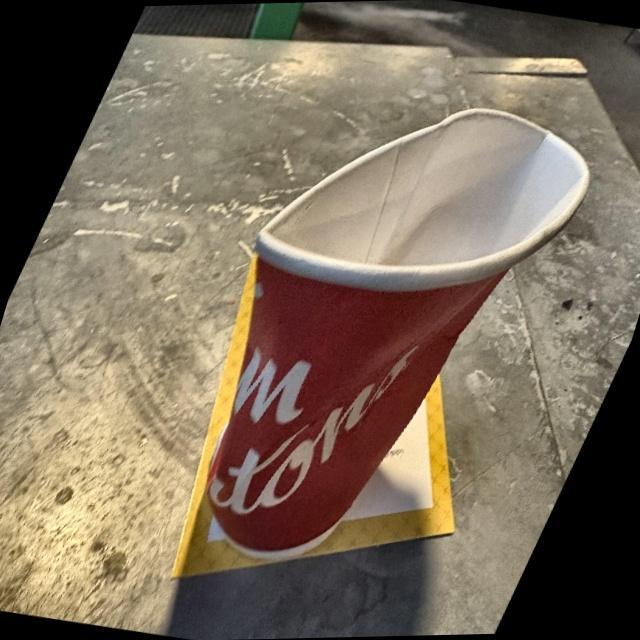timmies: (95, 71, 636, 594)
